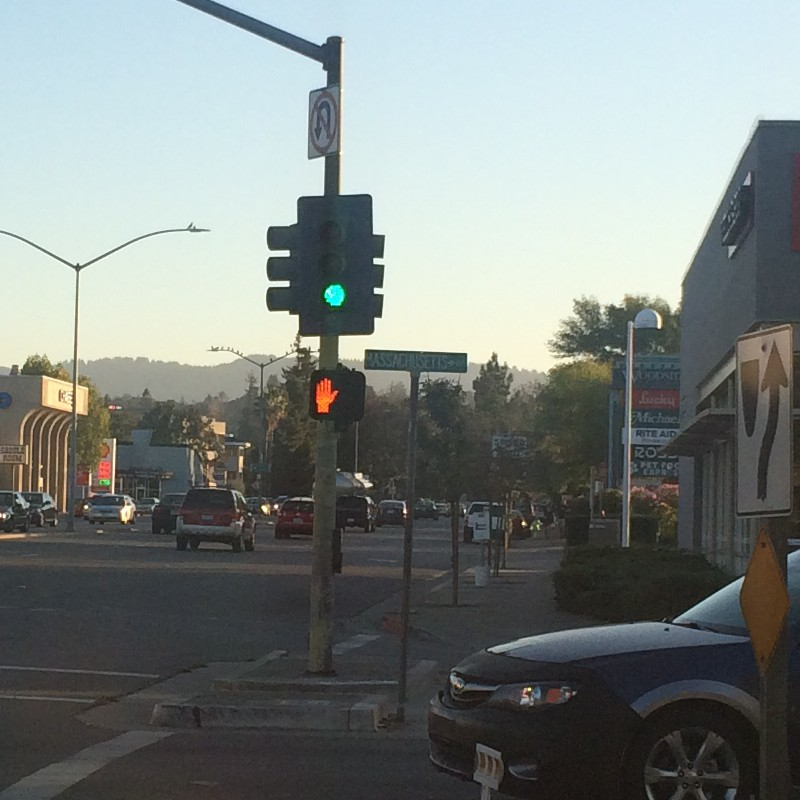stop: (308, 372, 364, 422)
